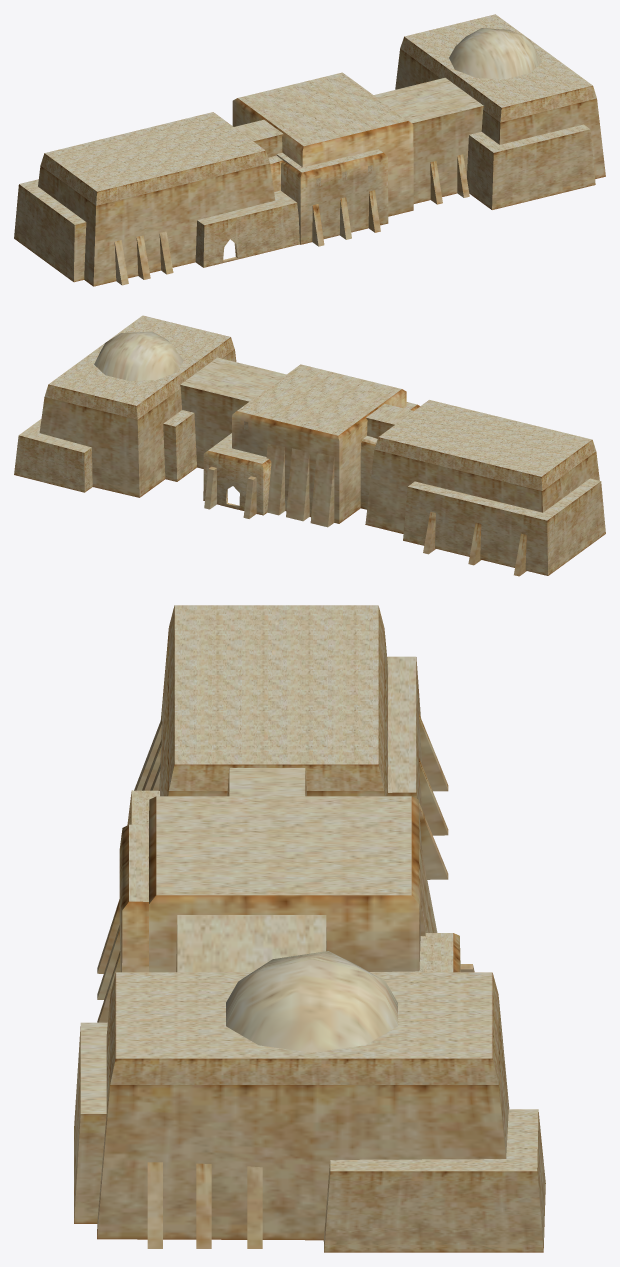
Rendered from thm_tato_block_bldg_64x32_s02_r0_exterior_mesh_l2.fbx.
3 renders of one model, top to bottom at view 1: azimuth 30°, elevation 25°; view 2: azimuth 150°, elevation 25°; view 3: azimuth 270°, elevation 25°, orthographic. The views are drawn at different scales.
Visible parts, largest first — view 1: mesh_node; view 2: mesh_node; view 3: mesh_node.
Boxes of the visible parts, x1,y1,x2,y2 form: mesh_node: [14, 14, 605, 286]; mesh_node: [14, 315, 605, 576]; mesh_node: [74, 605, 545, 1252].
Bounding box in the file's own units: 77.79 × 17.03 × 31.51.
